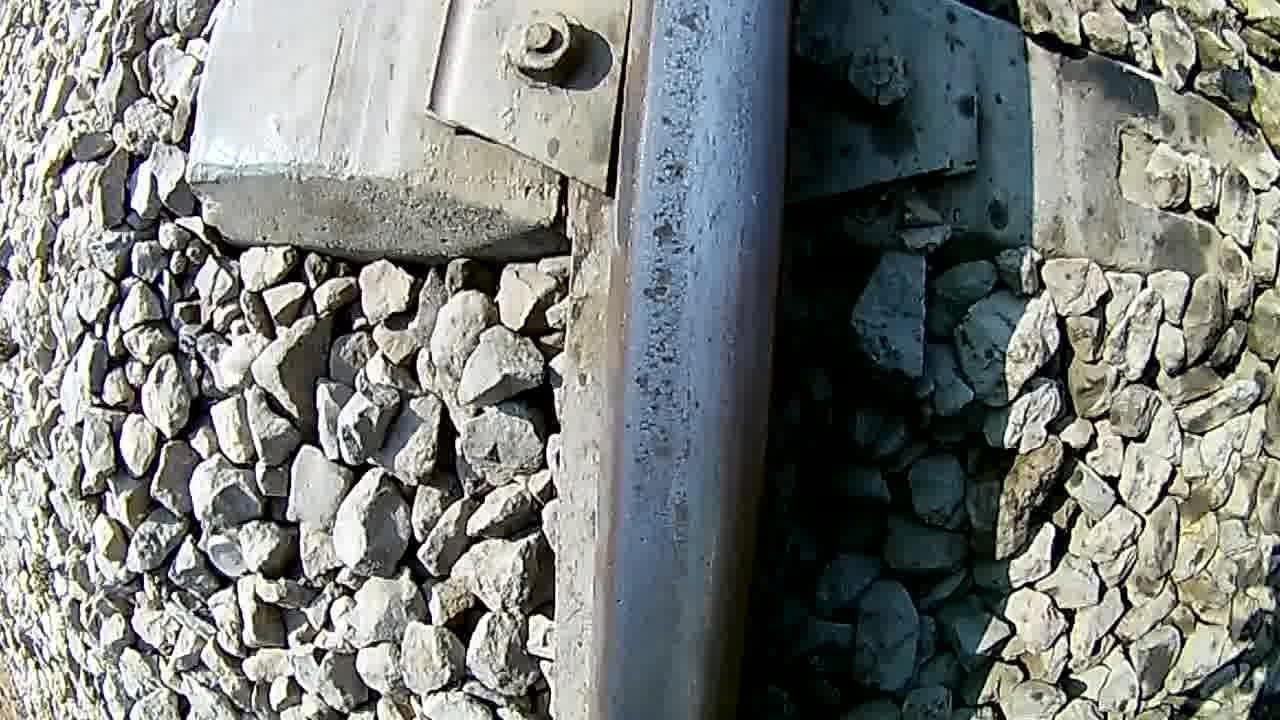crack: (614, 0, 788, 720)
